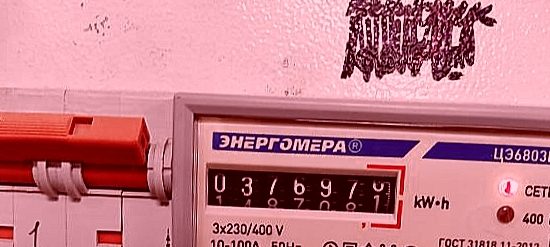0: (213, 171, 228, 193)
1: (370, 193, 383, 213)
3: (240, 175, 256, 197)
6: (292, 172, 308, 196)
7: (265, 173, 281, 196), (346, 177, 361, 201)
9: (318, 175, 334, 199)
screen: (196, 154, 409, 233)
